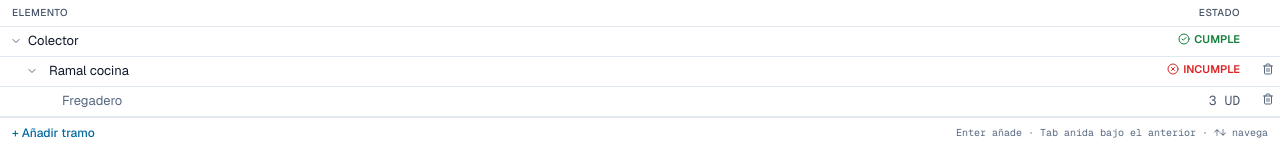
Test: Outliner · colapso y jerarquía › colapsar una fila oculta sus descendientes (y expandir los devuelve)
Expected: the text "Fregadero" is shown, [62,91,122,111]
Click the button named "Contraer" in the row of "INCUMPLE" at (32, 71), box [24,63,40,79]
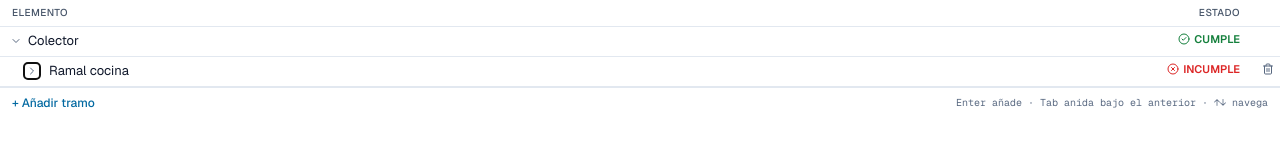
Now the text "Fregadero" is gone
Now the row showing "Ramal cocina" is collapsed, box [0,56,1279,86]
Click the button named "Expandir" at (32, 71), box [24,63,40,79]
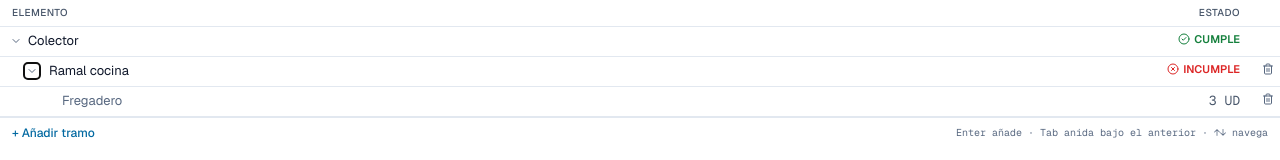
Now the text "Fregadero" is shown, box [62,91,122,111]
